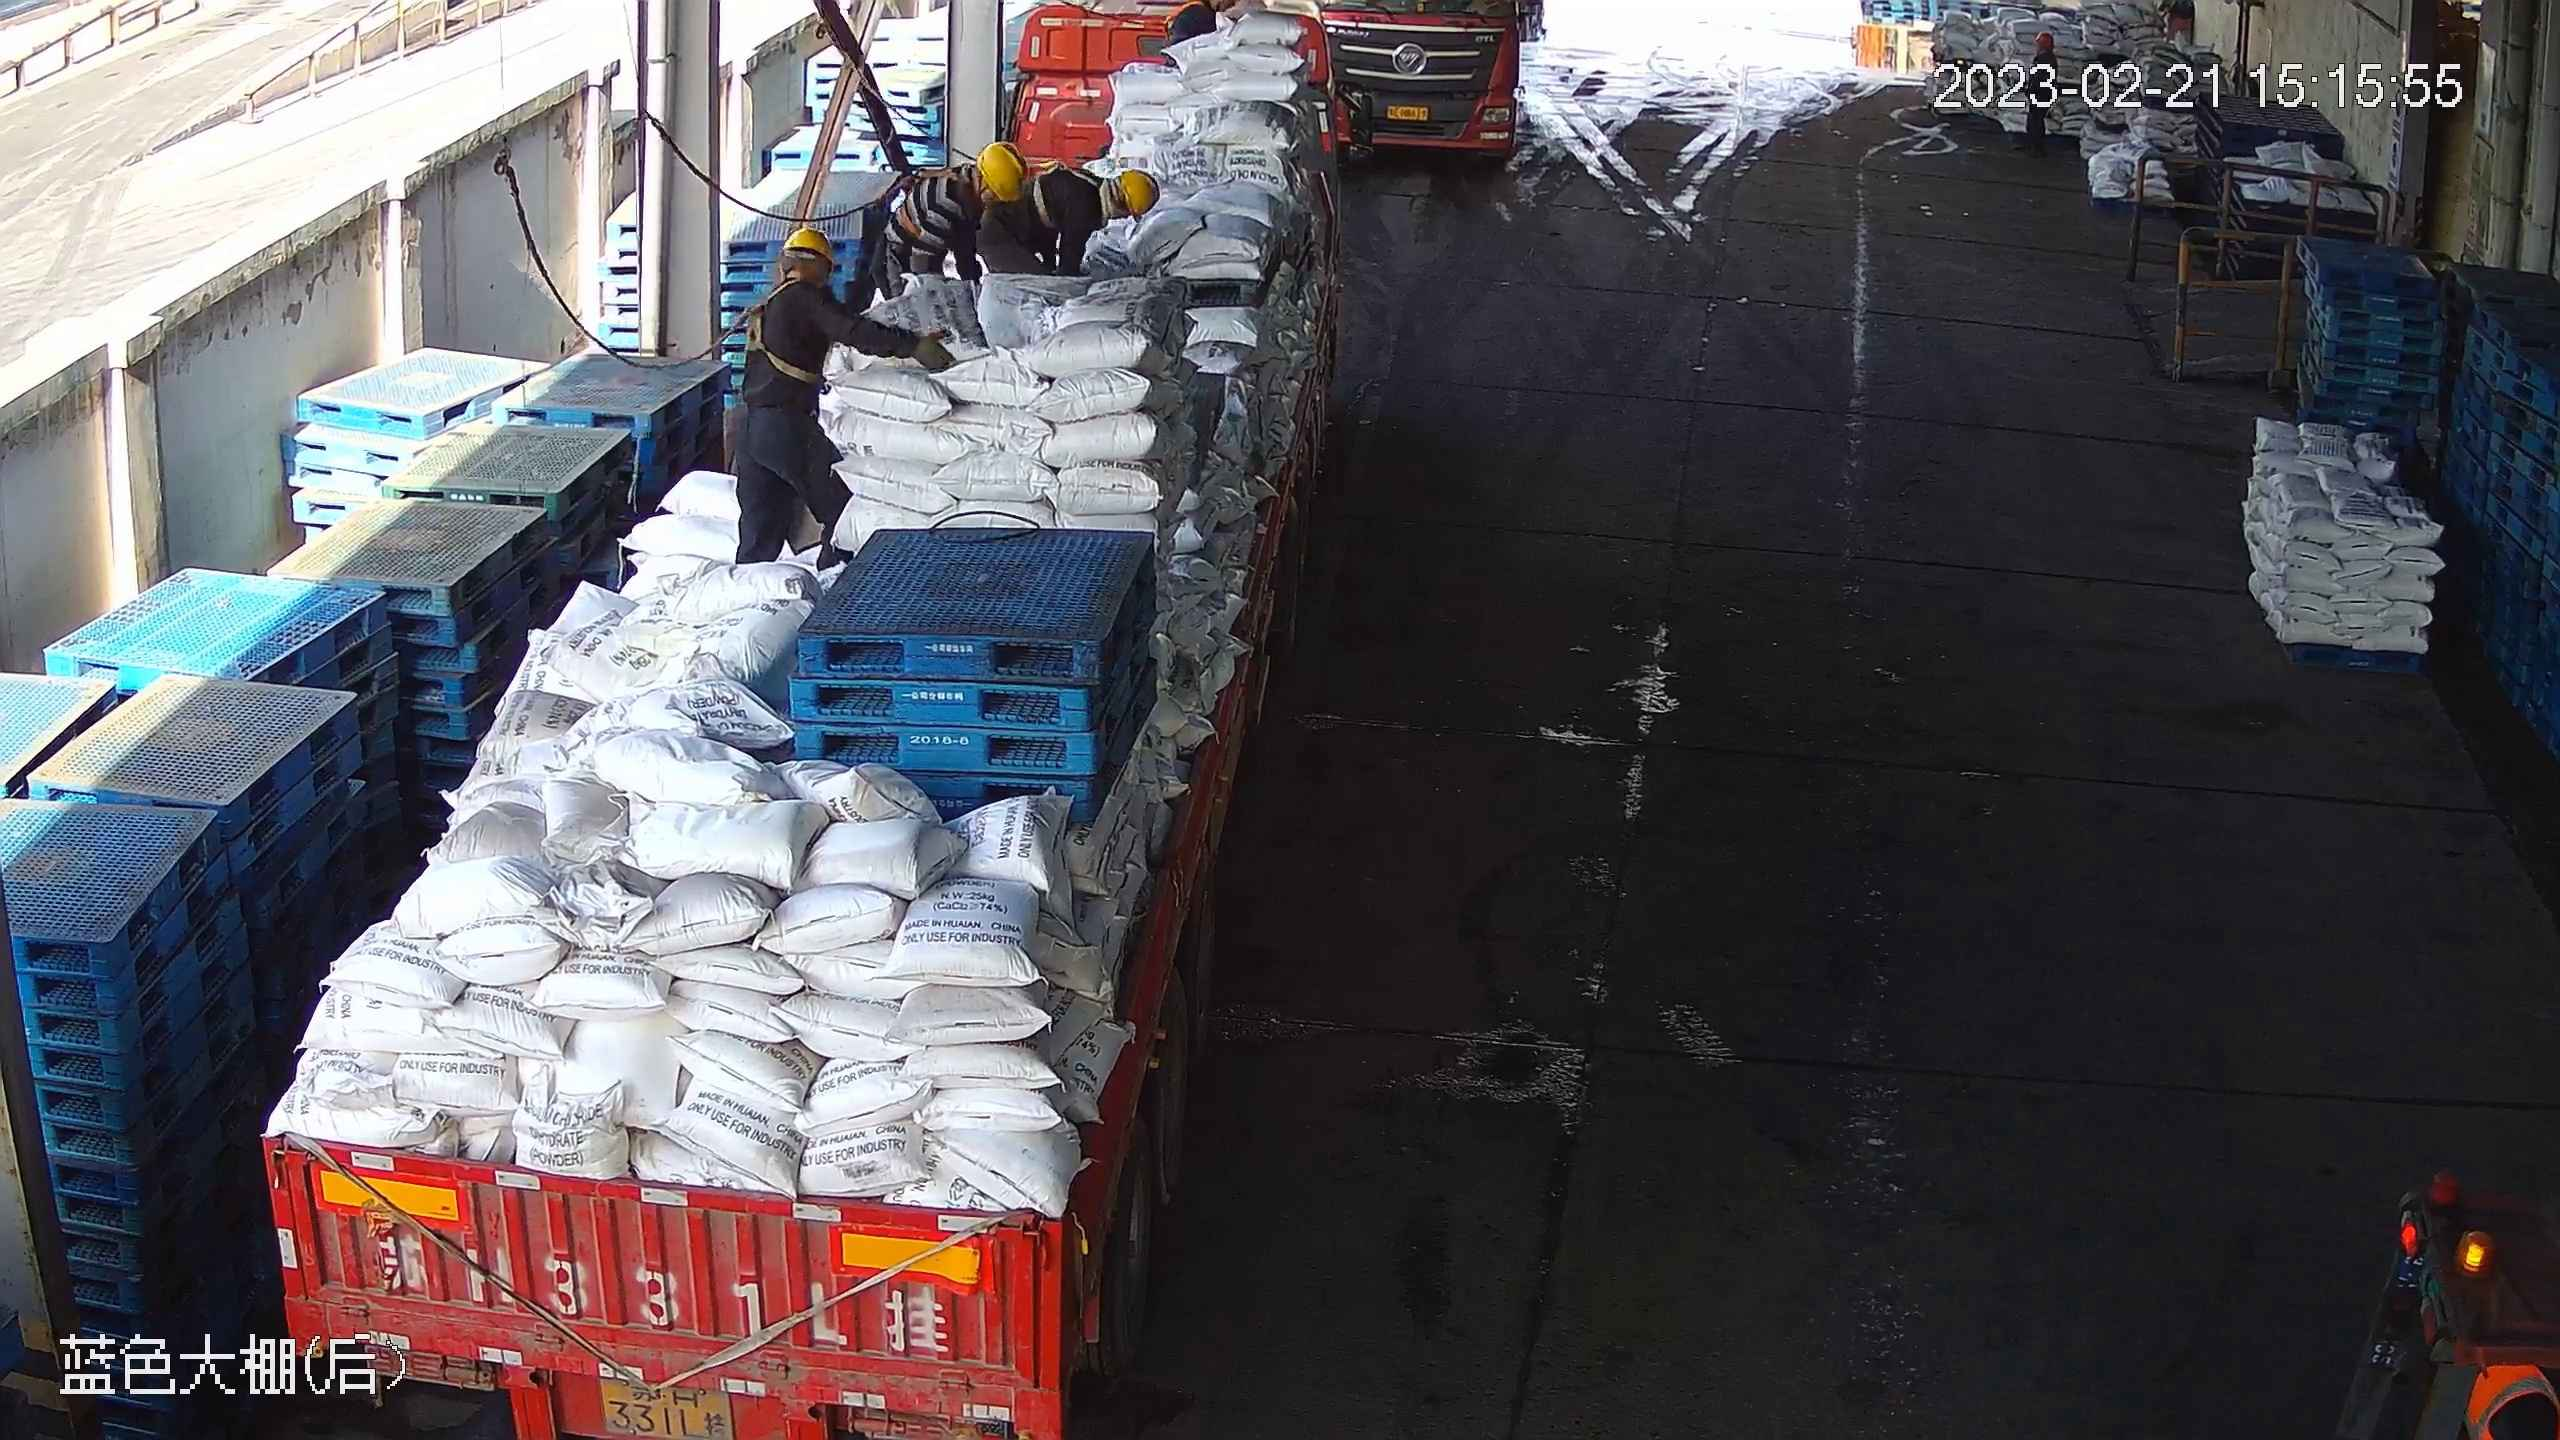belt: (735, 282, 831, 388), (885, 158, 953, 232), (1027, 181, 1064, 229)
head: (744, 225, 866, 347), (916, 140, 1029, 236), (1049, 161, 1157, 253)
helmet: (973, 144, 1036, 201), (1112, 164, 1170, 220), (783, 221, 842, 262)
people: (722, 225, 888, 573)
truck: (248, 10, 1351, 1436), (1316, 1, 1533, 173)
